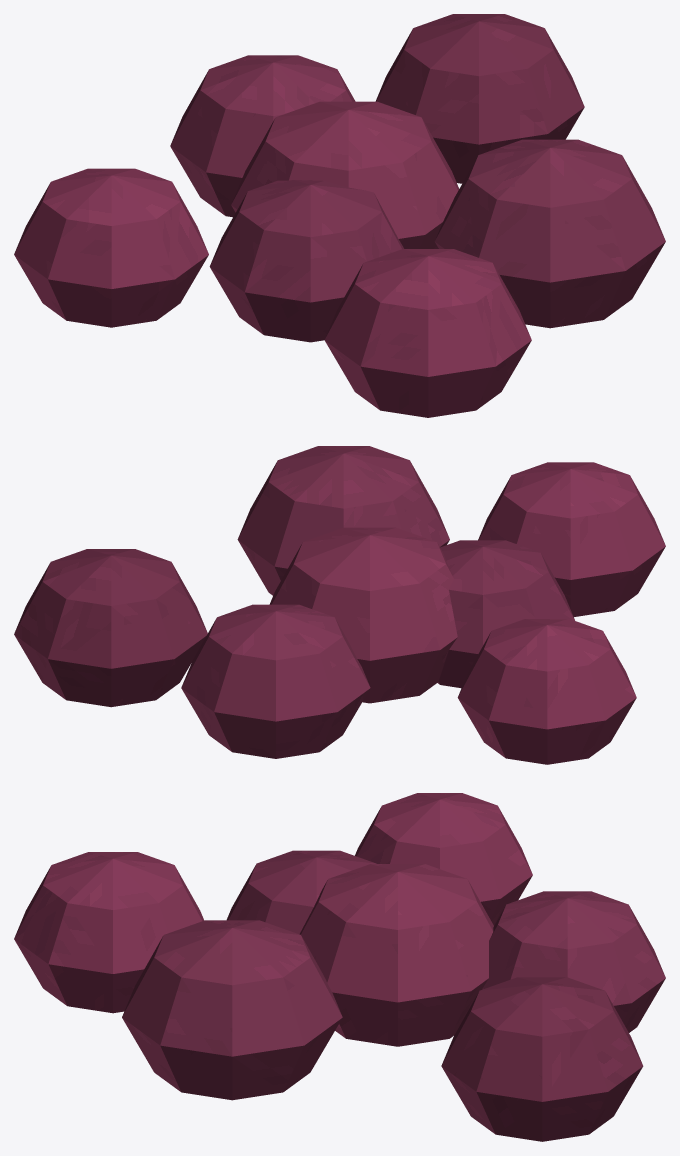
The model's file is hobbleberries.glb.
The picture shows the model from 3 angles, top to bottom: view 1: azimuth 30°, elevation 25°; view 2: azimuth 150°, elevation 25°; view 3: azimuth 270°, elevation 25°; orthographic projection. The views are drawn at different scales.
Visible parts, largest first — view 1: block_individual berry (×7); view 2: block_individual berry (×7); view 3: block_individual berry (×7).
Part boxes in pixels (x1,y1,x2,y2): block_individual berry (×7): (14,14,665,417); block_individual berry (×7): (14,446,665,764); block_individual berry (×7): (14,793,665,1141).
Size of the model in its own units: 0.1084 by 0.0301 by 0.1077.
Materials: 1 (1 with a texture image).
